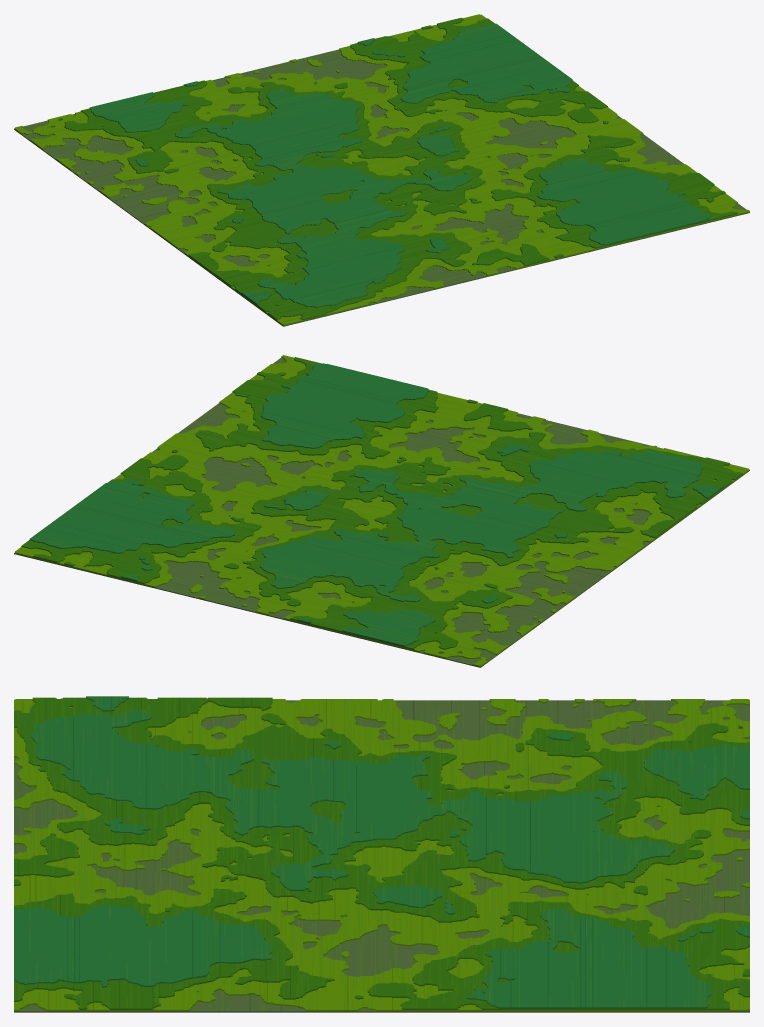
File: terrain3.fbx
3 views of the same model, one above another, from view 1: azimuth 30°, elevation 25°; view 2: azimuth 150°, elevation 25°; view 3: azimuth 270°, elevation 25° (orthographic). The views are drawn at different scales.
Parts seen in each view (by area): view 1: Terrain; view 2: Terrain; view 3: Terrain.
Part boxes in pixels (x1=…): Terrain: x1=14, y1=14, x2=749, y2=326; Terrain: x1=14, y1=355, x2=749, y2=667; Terrain: x1=14, y1=696, x2=749, y2=1012.
Size of the model in its own units: 512 by 4 by 512.
Materials: 1 (1 with a texture image).
